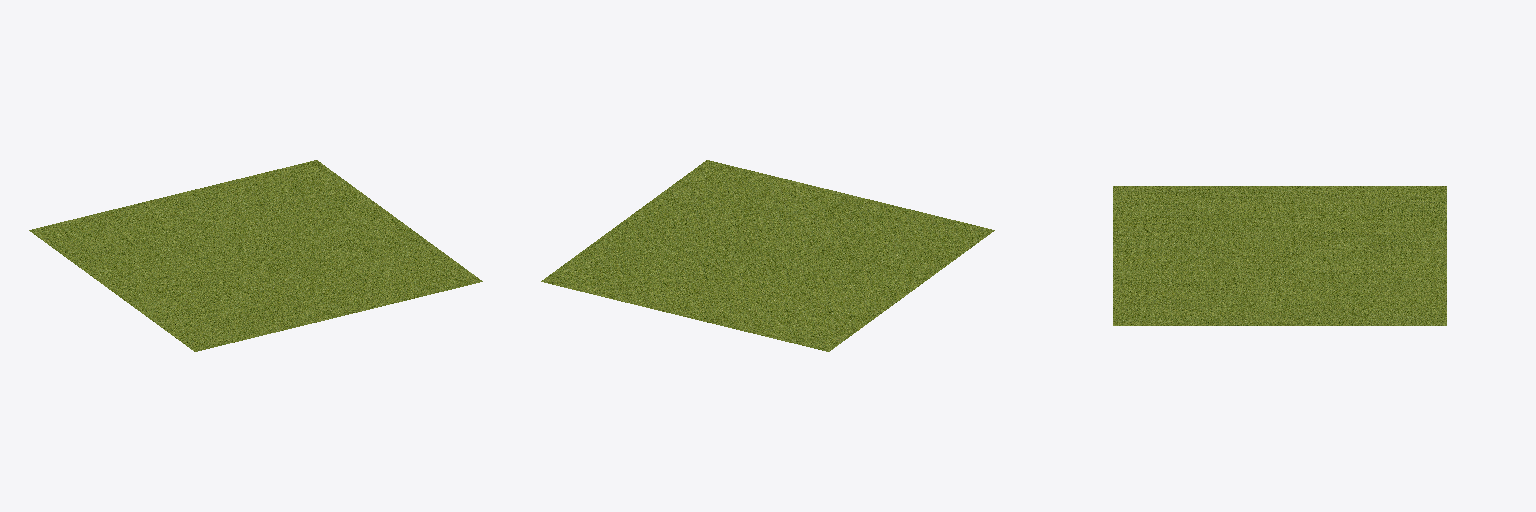
3 renders of one model, left to right at view 1: azimuth 30°, elevation 25°; view 2: azimuth 150°, elevation 25°; view 3: azimuth 270°, elevation 25°, orthographic.
Visible parts, largest first — view 1: Plane01; view 2: Plane01; view 3: Plane01.
Part boxes in pixels (x1,y1,x2,y2): Plane01: (29, 160, 482, 351); Plane01: (541, 160, 994, 351); Plane01: (1113, 186, 1446, 325).
Size of the model in its own units: 10 by 0 by 10.
1 materials, 1 textured.